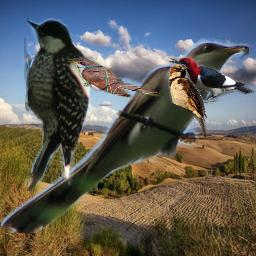Cuckoo: (1, 38, 249, 233), (67, 55, 163, 101)
Swallow: (168, 64, 207, 139)
Woodpecker: (24, 18, 92, 191), (165, 55, 255, 105)
